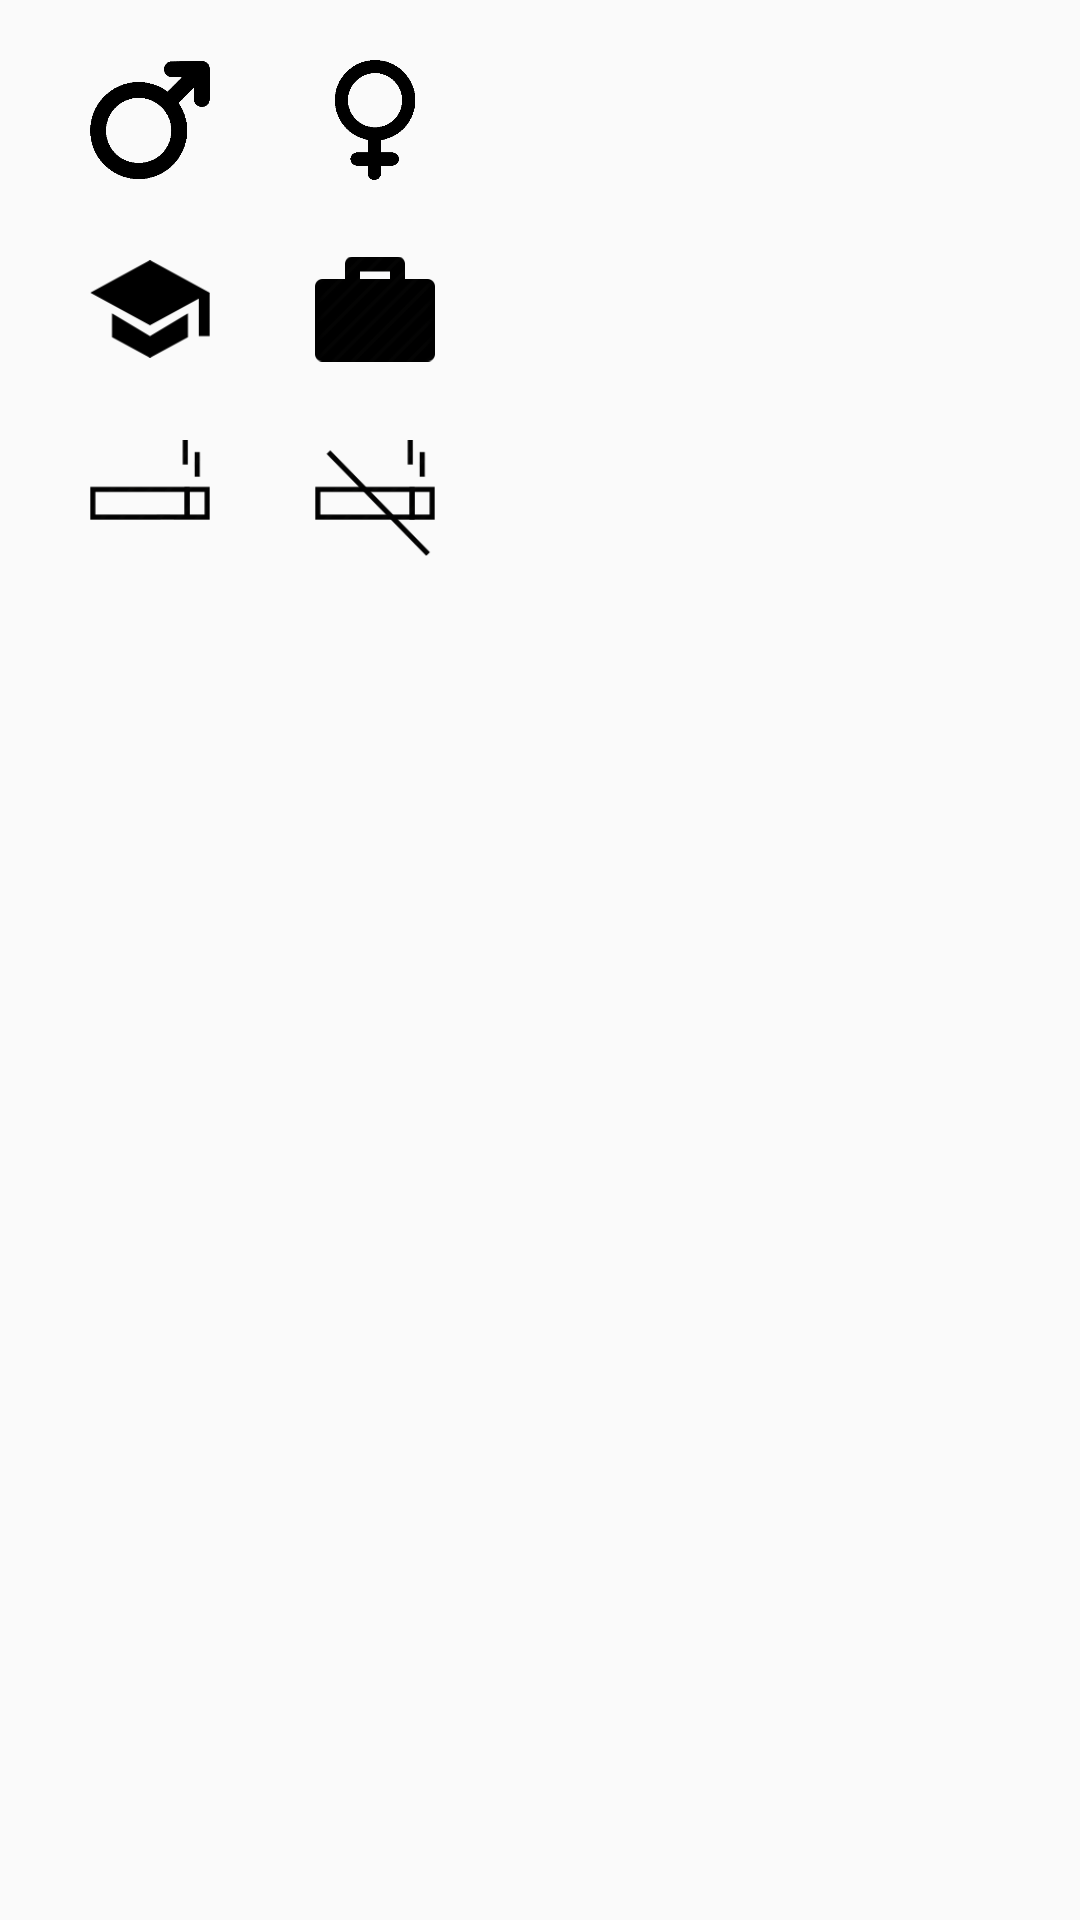

Point at icon controls on the screen. Image size 1080x1920, points as point (x, y).
estudiante: point (150, 309)
fumador: point (150, 480)
genero femenino: point (375, 120)
genero masculino: point (150, 120)
no fumador: point (375, 498)
trabajador: point (375, 309)
